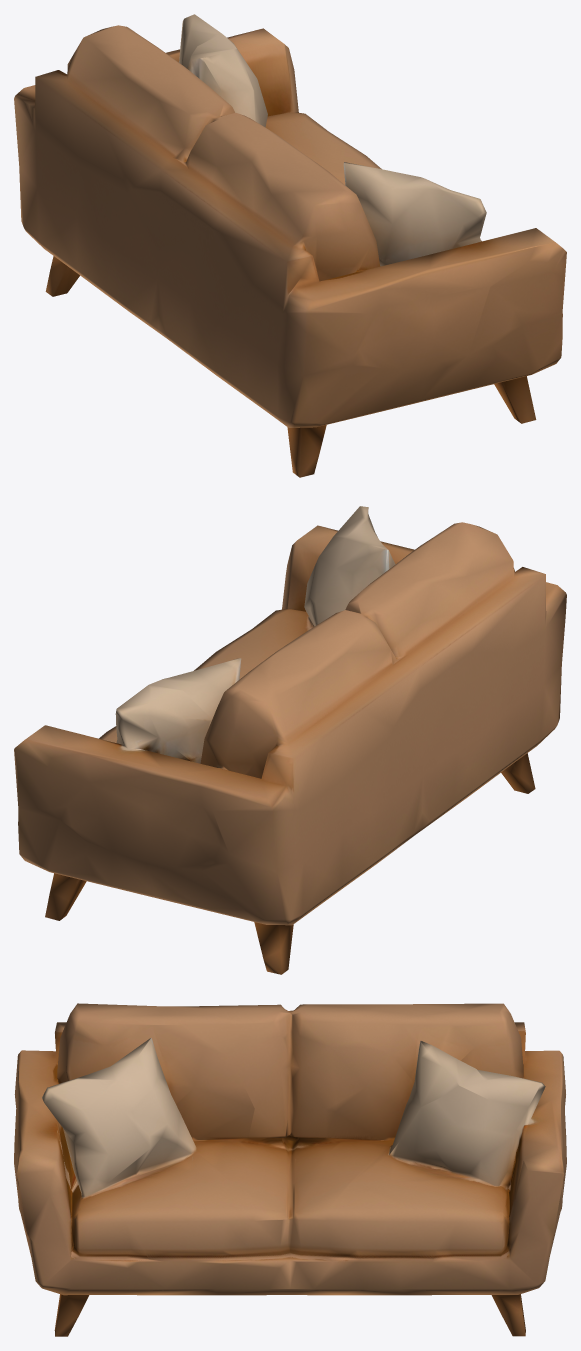
Rendered from Low_Poly_Stylized_Sofa_Game_Ready_Model.glb.
3 views of the same model, one above another, from view 1: azimuth 30°, elevation 25°; view 2: azimuth 150°, elevation 25°; view 3: azimuth 270°, elevation 25° (orthographic). The views are drawn at different scales.
Parts seen in each view (by area): view 1: tripo_node_1e8a9dd9_tripo_mat_1e8a9dd9_0; view 2: tripo_node_1e8a9dd9_tripo_mat_1e8a9dd9_0; view 3: tripo_node_1e8a9dd9_tripo_mat_1e8a9dd9_0.
Part boxes in pixels (x1=…): tripo_node_1e8a9dd9_tripo_mat_1e8a9dd9_0: x1=14, y1=14, x2=566, y2=477; tripo_node_1e8a9dd9_tripo_mat_1e8a9dd9_0: x1=14, y1=506, x2=566, y2=974; tripo_node_1e8a9dd9_tripo_mat_1e8a9dd9_0: x1=14, y1=1003, x2=566, y2=1336.
Bounding box in the file's own units: 0.5209 × 0.486 × 1.
1 material, 1 textured.
